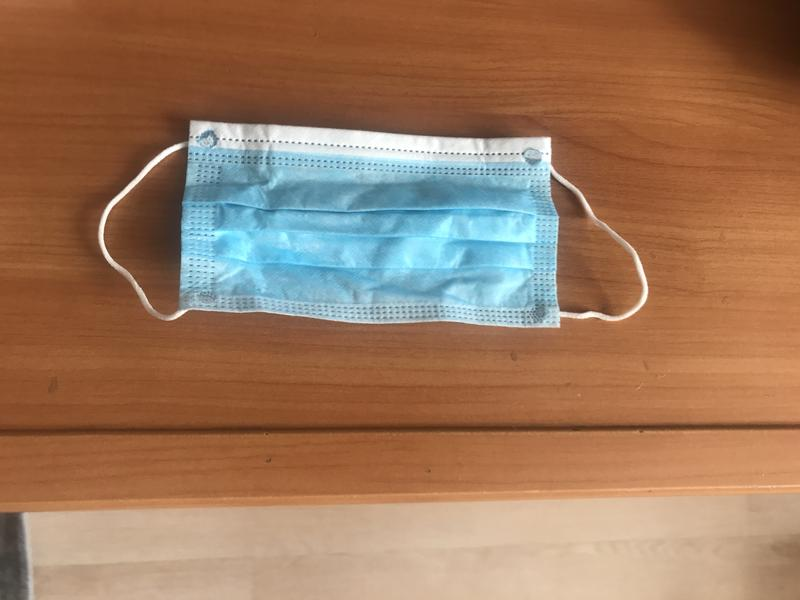medical_mask: (95, 120, 648, 328)
